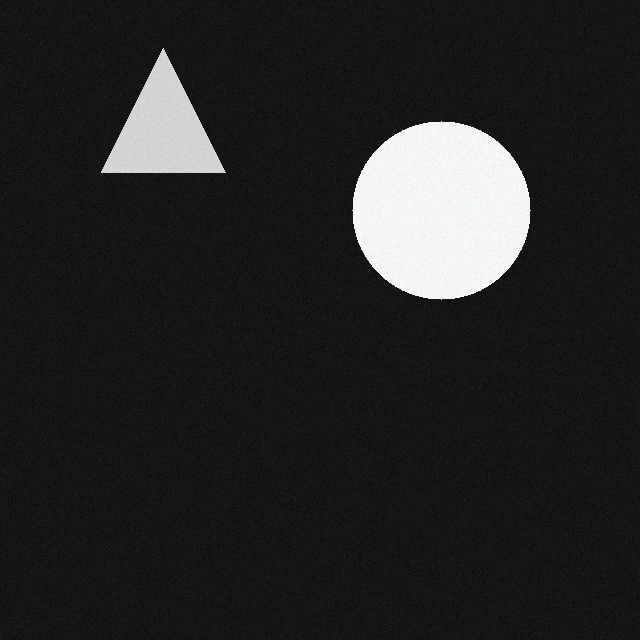circle: (346, 114, 524, 292)
triangle: (95, 41, 219, 165)
